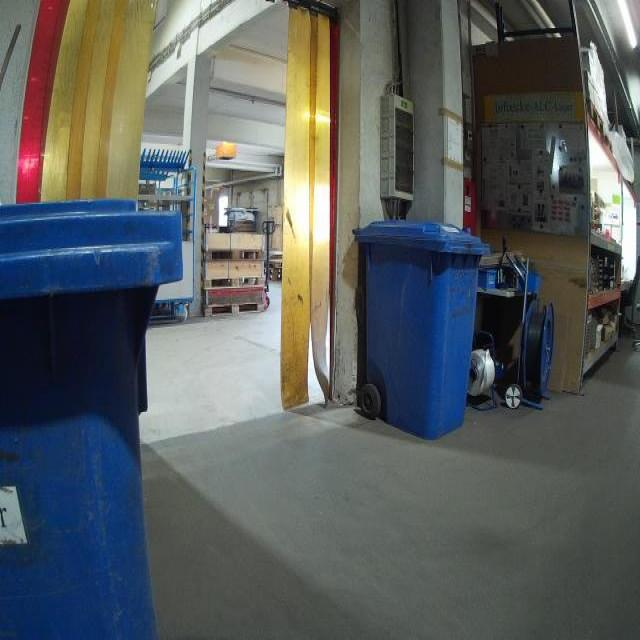pallet: (204, 248, 265, 264), (203, 303, 264, 318), (202, 277, 266, 289), (586, 102, 604, 135), (266, 274, 282, 282), (266, 267, 283, 274)
pallet_truck: (257, 216, 282, 318)
